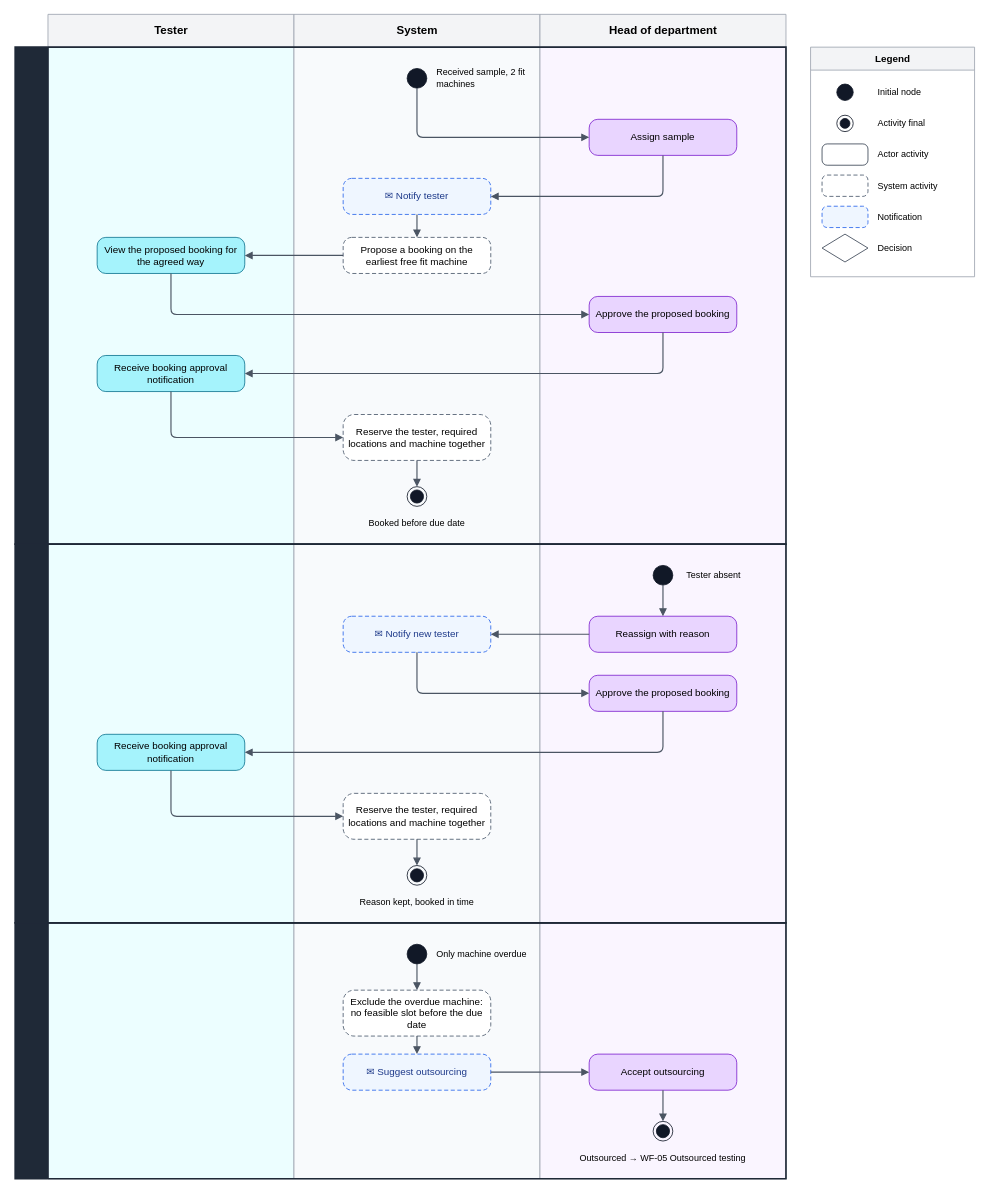
This 989x1194 diagram has some shape labels left out. Here are the shapes that lost their labels. From the top down, the centre of each, then its label:
point 400,295: DS-03a Booking on the earliest free fit machine ↔ WF-03 main path
point 400,733: DS-03b Assigned tester is absent ↔ WF-03-E1
point 400,1050: DS-03c Only machine uncalibrated ↔ WF-03-E2
